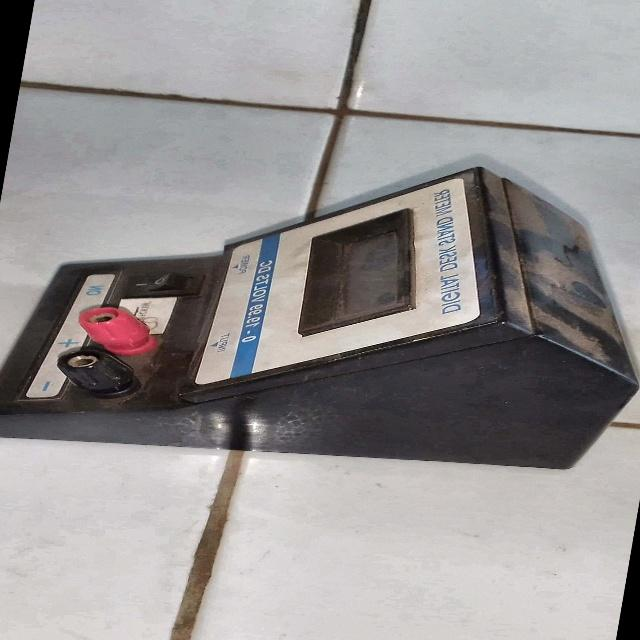Digital Voltmeter 0-20V: (0, 123, 640, 512)
